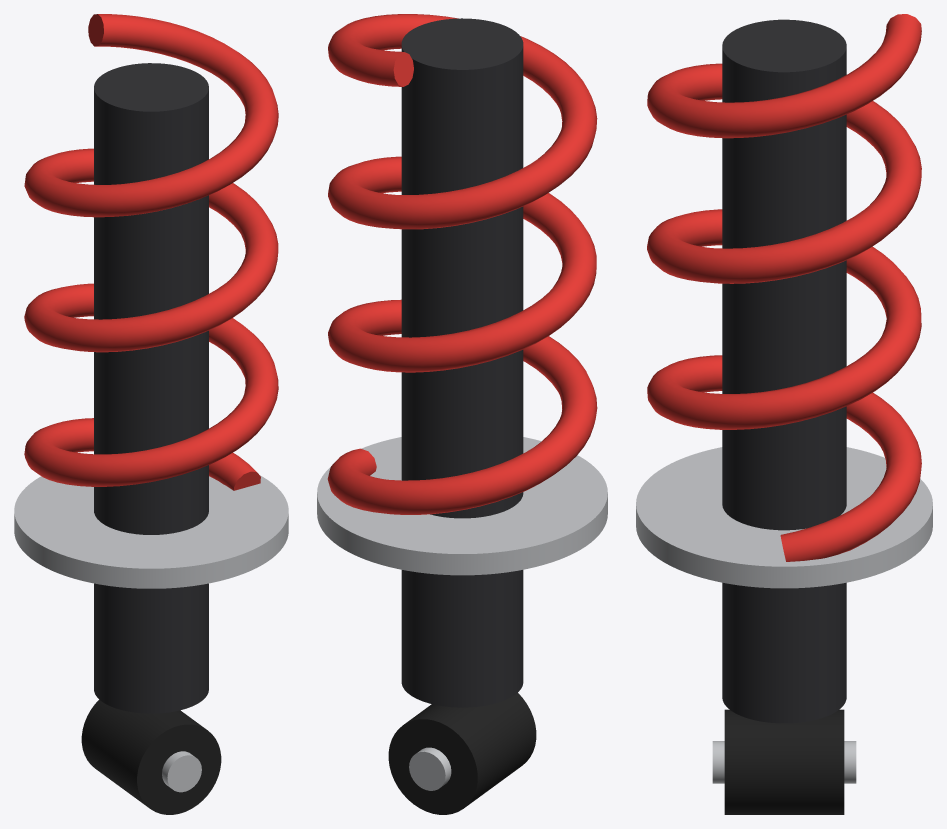
The model's file is shock_body.glb.
3 renders of one model, left to right at view 1: azimuth 30°, elevation 25°; view 2: azimuth 150°, elevation 25°; view 3: azimuth 270°, elevation 25°, orthographic. The views are drawn at different scales.
Parts seen in each view (by area): view 1: damper_0, coil_3, steel_2, bush_1; view 2: damper_0, coil_3, steel_2, bush_1; view 3: damper_0, coil_3, steel_2, bush_1.
Boxes of the visible parts, x1,y1,x2,y2 form: damper_0: [94, 63, 208, 713]; coil_3: [24, 14, 278, 490]; steel_2: [14, 475, 288, 792]; bush_1: [81, 699, 221, 814]; damper_0: [401, 18, 523, 707]; coil_3: [327, 14, 597, 514]; steel_2: [317, 437, 607, 790]; bush_1: [388, 693, 536, 814]; damper_0: [722, 19, 846, 723]; coil_3: [647, 14, 921, 561]; steel_2: [636, 447, 932, 783]; bush_1: [724, 709, 844, 814].
Bounding box in the file's own units: 0.1239 × 0.3675 × 0.124.
